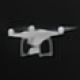plane: (7, 22, 76, 58)
